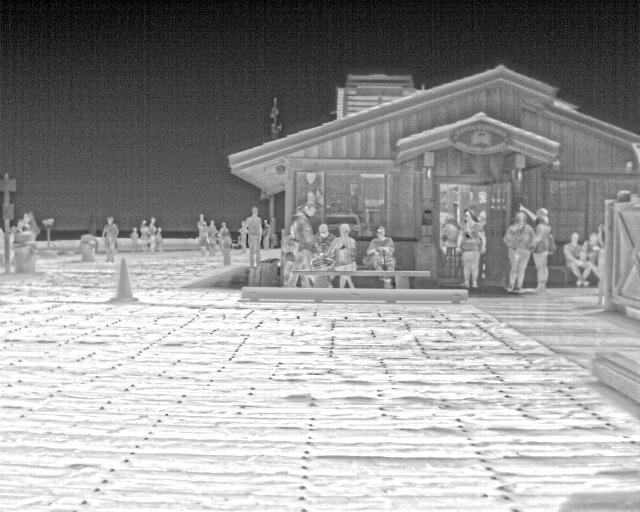car: (520, 197, 566, 295), (291, 198, 336, 289), (452, 209, 492, 293), (499, 201, 533, 291), (366, 220, 408, 290), (240, 208, 276, 282), (333, 217, 364, 296), (20, 207, 50, 264), (99, 214, 123, 263), (127, 217, 156, 257), (197, 213, 222, 256), (217, 222, 239, 269), (147, 215, 169, 254)
traffic cone: (99, 258, 148, 304)
